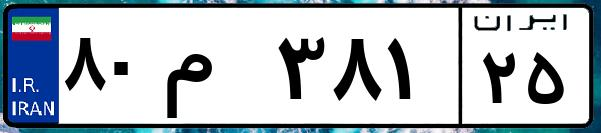0: (110, 28, 158, 98)
1: (385, 28, 445, 110)
2: (475, 38, 525, 113)
3: (270, 28, 330, 110)
5: (525, 38, 570, 115)
8: (330, 28, 385, 110), (57, 26, 110, 100)
م: (158, 20, 270, 120)
